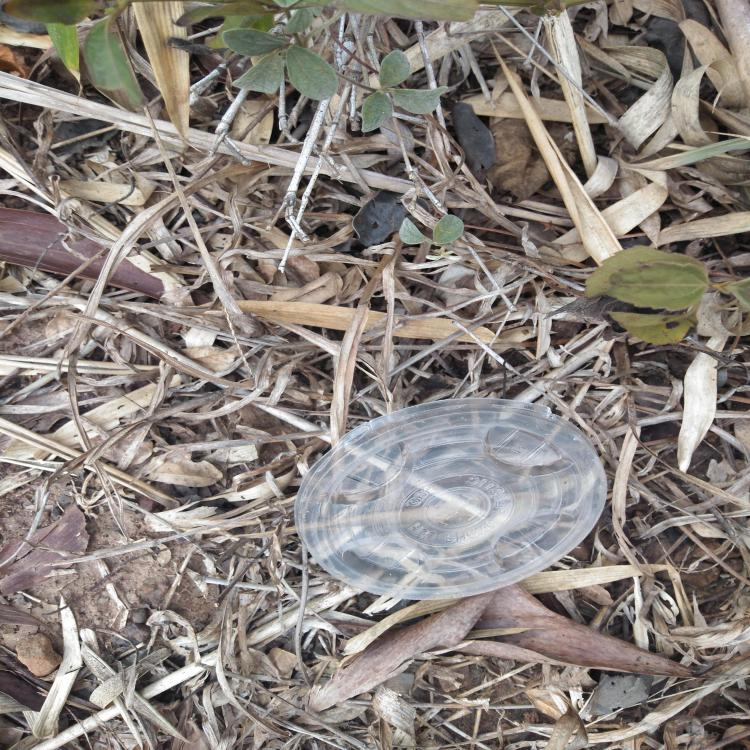Plastic lid: (293, 398, 607, 600)
